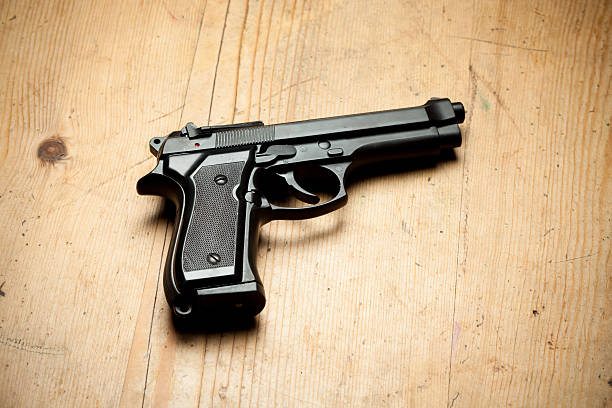gun: (135, 92, 467, 331)
